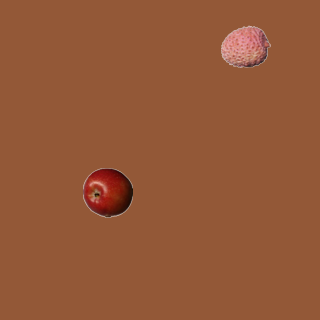Apple Braeburn: (82, 167, 132, 217)
Lychee: (220, 21, 270, 71)
